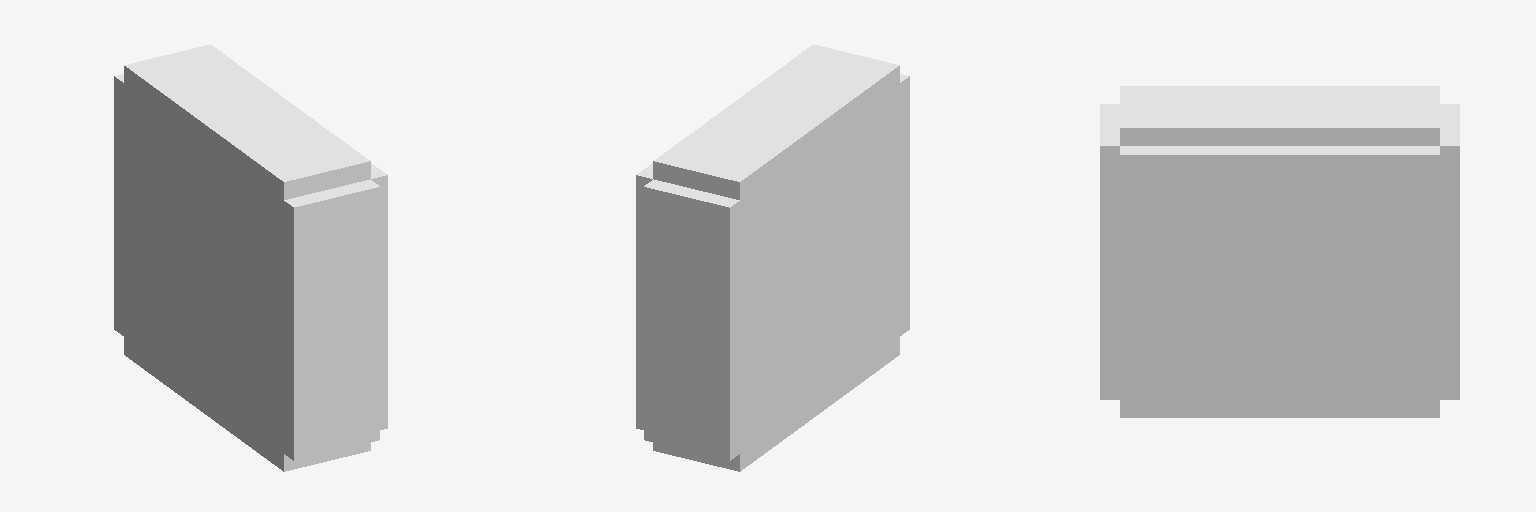
File: Imprimante-2-Pack.obj
The picture shows the model from 3 angles: view 1: azimuth 30°, elevation 25°; view 2: azimuth 150°, elevation 25°; view 3: azimuth 270°, elevation 25°; orthographic projection.
Visible parts, largest first — view 1: Pack; view 2: Pack; view 3: Pack.
Boxes of the visible parts, box(x1,y1,x2,y2) form: Pack: box(114, 44, 387, 471); Pack: box(636, 44, 909, 471); Pack: box(1100, 86, 1459, 417).
Size of the model in its own units: 0.6 by 1.6 by 1.8.